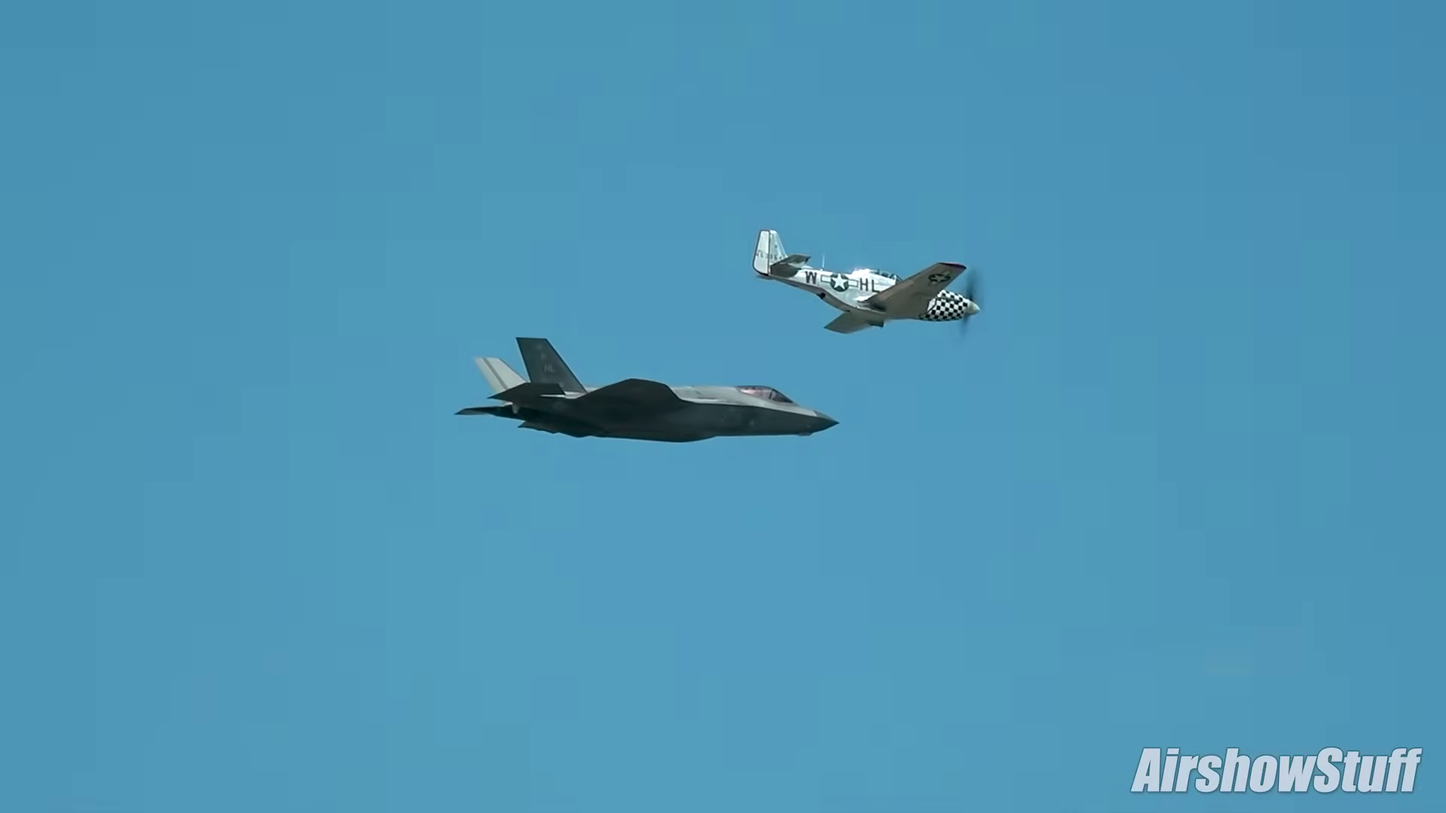F35: (451, 334, 847, 446)
